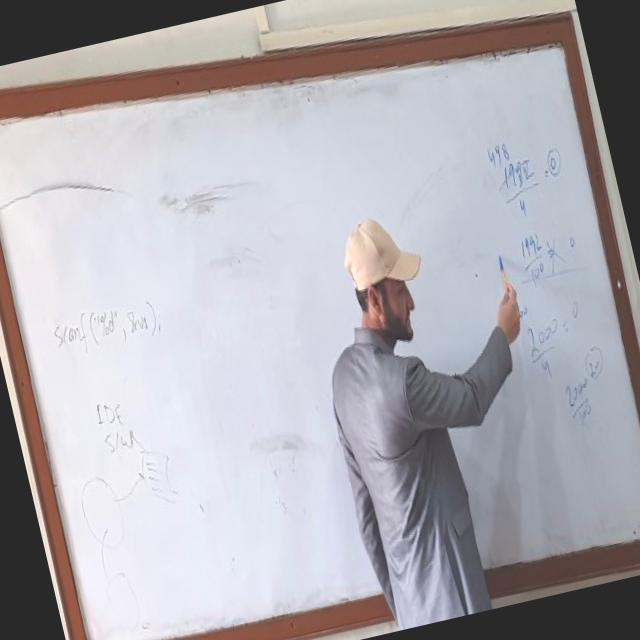Instructor: (283, 194, 521, 636)
White-board: (0, 29, 640, 640)
